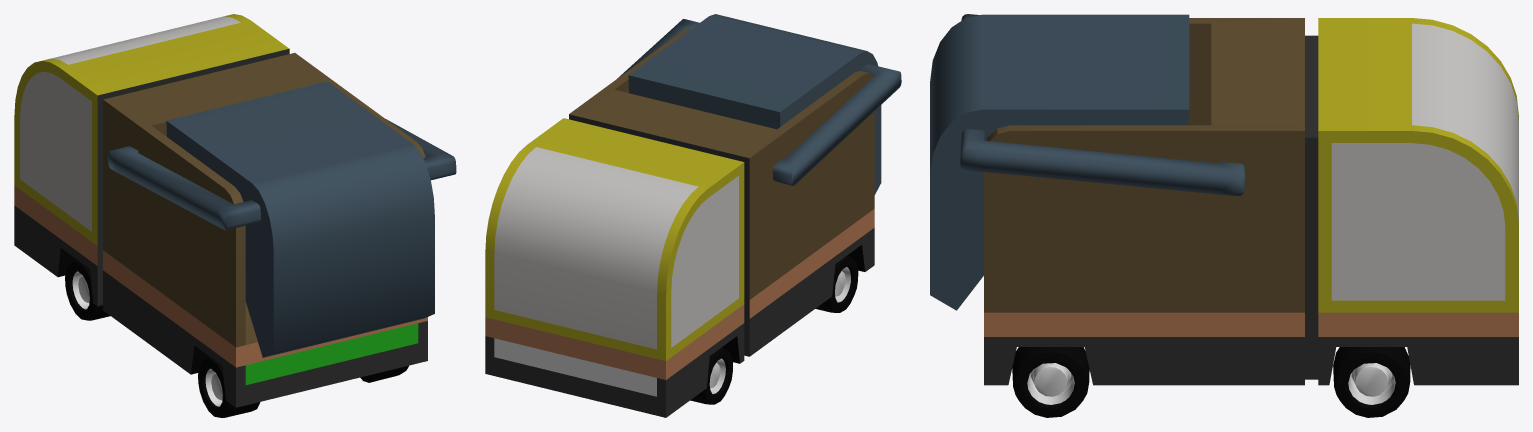
The model's file is SM_GarbageTruck_Yelllow.glb.
3 views of the same model, side by side, from view 1: azimuth 30°, elevation 25°; view 2: azimuth 150°, elevation 25°; view 3: azimuth 270°, elevation 25° (orthographic). The views are drawn at different scales.
Visible parts, largest first — view 1: BodyYellow, Rear, WheelsRear, Wheels.Front; view 2: BodyYellow, Rear, Wheels.Front, WheelsRear; view 3: BodyYellow, Rear, Wheels.Front, WheelsRear.
Part boxes in pixels (left/top/right/bottom): BodyYellow: left=14, top=14, right=427, bottom=407; Rear: left=108, top=81, right=456, bottom=357; WheelsRear: left=198, top=357, right=408, bottom=417; Wheels.Front: left=65, top=259, right=110, bottom=320; BodyYellow: left=485, top=29, right=874, bottom=417; Rear: left=617, top=14, right=901, bottom=194; Wheels.Front: left=690, top=347, right=732, bottom=404; WheelsRear: left=815, top=255, right=858, bottom=312; BodyYellow: left=984, top=18, right=1518, bottom=385; Rear: left=930, top=14, right=1245, bottom=310; Wheels.Front: left=1333, top=347, right=1410, bottom=417; WheelsRear: left=1012, top=347, right=1089, bottom=417.
Bounding box in the file's own units: 2.41 × 2.51 × 4.4.
